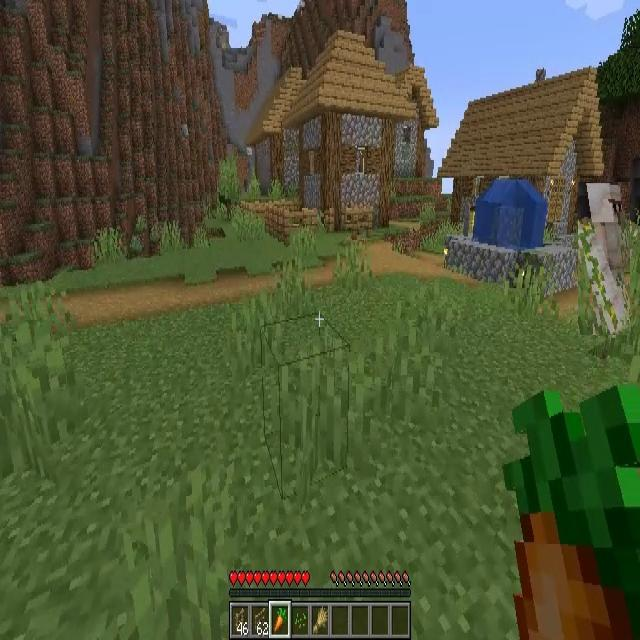people: (578, 182, 630, 335)
